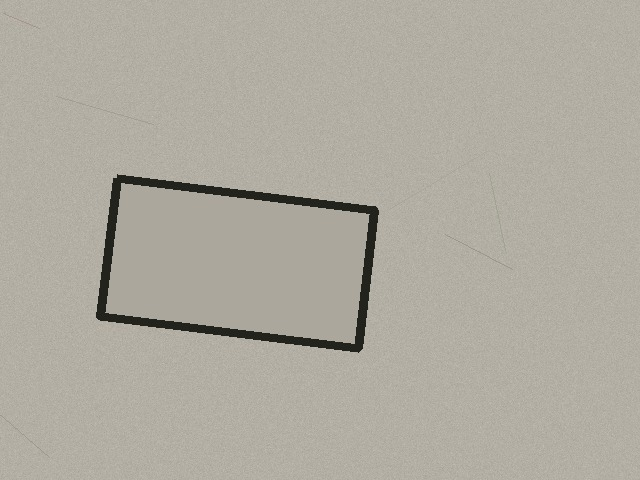parking_area: (100, 178, 374, 348)
